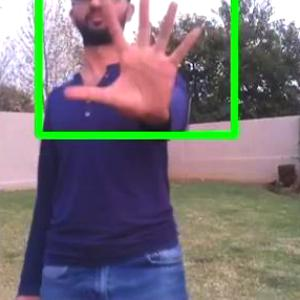follow_hand: (60, 0, 208, 126)
